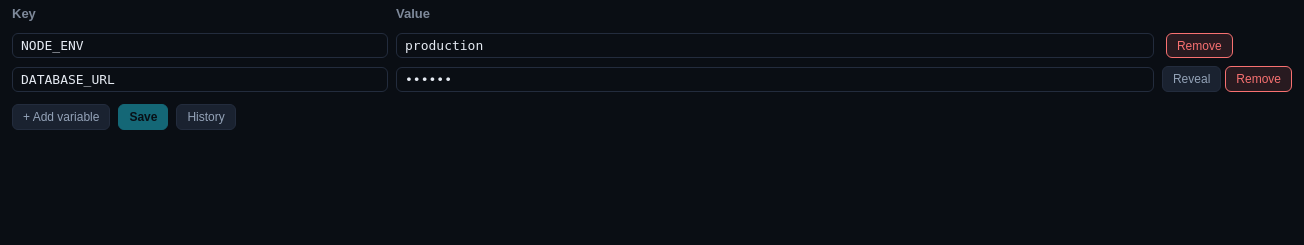
Test case: EnvVarsPanel accessible names › rows sharing a key › keeps the positional name for several rows with an empty key
Expected: the field named "Value of NODE_ENV" is shown, [396,33,1154,58]
Click the button "+ Add variable" at [61, 117], box [12,104,110,130]
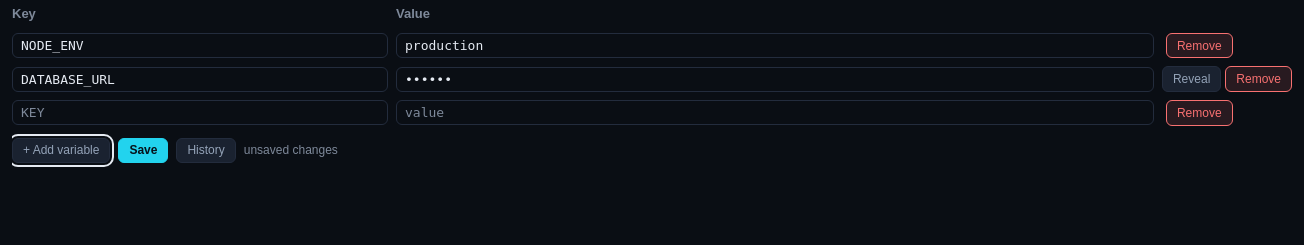
Click the button "+ Add variable" at [61, 150], box [12,138,110,163]
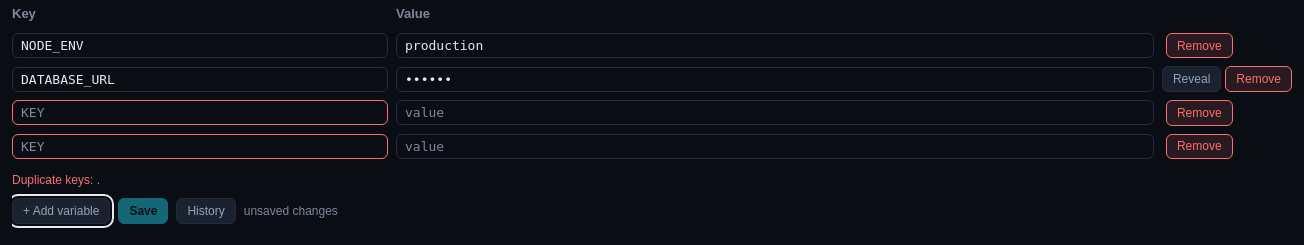
Expected: the field named "Value of variable 3" is shown, [396,100,1154,125]
Expected: the button with aria-label "Remove variable 3" is shown, [1166,100,1233,126]
Expected: the field named "Value of variable 4" is shown, [396,134,1154,159]
